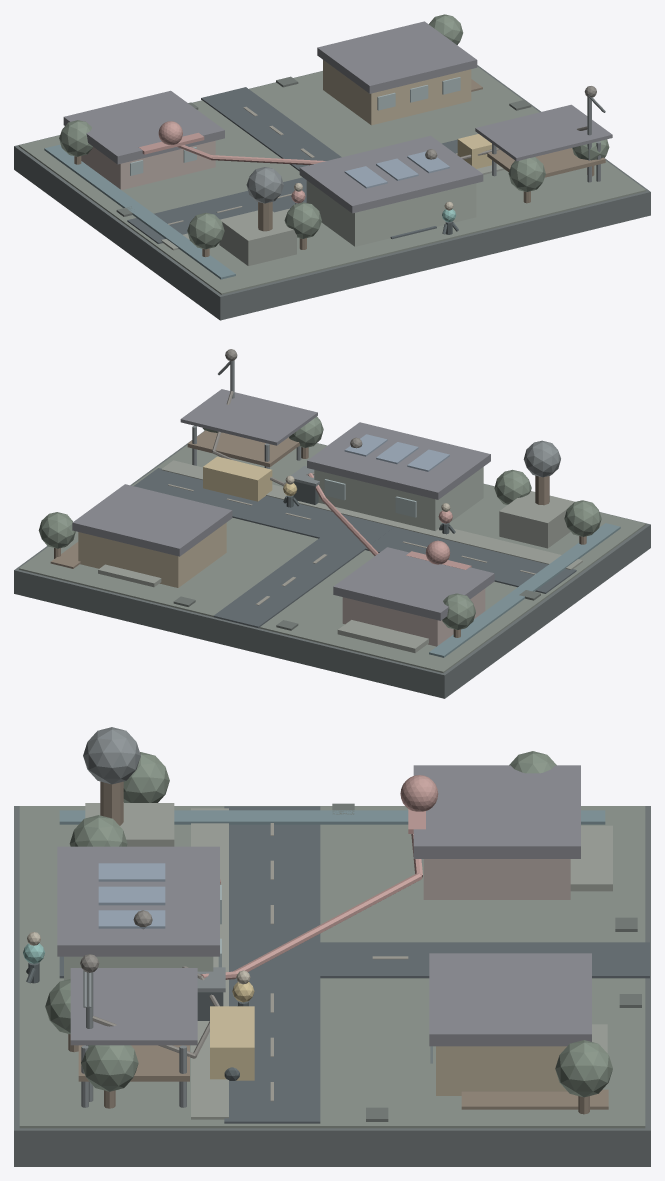
The model's file is yudae_p_clinic.glb.
The picture shows the model from 3 angles, top to bottom: view 1: azimuth 30°, elevation 25°; view 2: azimuth 150°, elevation 25°; view 3: azimuth 270°, elevation 25°; orthographic projection. The views are drawn at different scales.
Parts seen in each view (by area): view 1: g0001, g0000, g0037, g0043, g0031, g0042, g0003, g0054, g0036, g0061, g0030, g0016 (+16 smaller); view 2: g0001, g0000, g0002, g0037, g0043, g0031, g0003, g0042, g0036, g0054, g0015, g0061 (+14 smaller); view 3: g0001, g0000, g0002, g0037, g0043, g0031, g0003, g0054, g0030, g0036, g0015, g0016 (+20 smaller).
Boxes of the visible parts, bbox=[...] form: g0001: bbox=[19, 66, 645, 294]; g0000: bbox=[14, 65, 650, 320]; g0037: bbox=[317, 21, 477, 93]; g0043: bbox=[299, 135, 483, 213]; g0031: bbox=[63, 90, 224, 164]; g0042: bbox=[306, 180, 476, 246]; g0003: bbox=[201, 87, 436, 239]; g0054: bbox=[475, 104, 612, 161]; g0036: bbox=[323, 60, 471, 125]; g0061: bbox=[219, 210, 296, 265]; g0030: bbox=[81, 140, 215, 190]; g0016: bbox=[44, 144, 235, 279]; g0001: bbox=[19, 443, 645, 673]; g0000: bbox=[14, 431, 650, 698]; g0002: bbox=[133, 468, 576, 593]; g0037: bbox=[72, 484, 232, 556]; g0043: bbox=[307, 422, 490, 499]; g0031: bbox=[333, 547, 494, 620]; g0003: bbox=[213, 516, 394, 628]; g0042: bbox=[314, 467, 483, 530]; g0036: bbox=[78, 522, 226, 587]; g0054: bbox=[180, 389, 317, 445]; g0015: bbox=[161, 460, 582, 569]; g0061: bbox=[499, 491, 575, 548]; g0001: bbox=[19, 806, 645, 1128]; g0000: bbox=[14, 806, 650, 1166]; g0002: bbox=[224, 806, 320, 1123]; g0037: bbox=[429, 953, 591, 1046]; g0043: bbox=[57, 846, 219, 956]; g0031: bbox=[413, 765, 580, 858]; g0003: bbox=[59, 942, 649, 978]; g0054: bbox=[70, 968, 197, 1045]; g0030: bbox=[423, 859, 570, 899]; g0036: bbox=[436, 1046, 567, 1095]; g0015: bbox=[191, 808, 228, 1119]; g0016: bbox=[59, 810, 605, 824].
Size of the model in its own units: 3.45 by 0.918 by 2.86.
